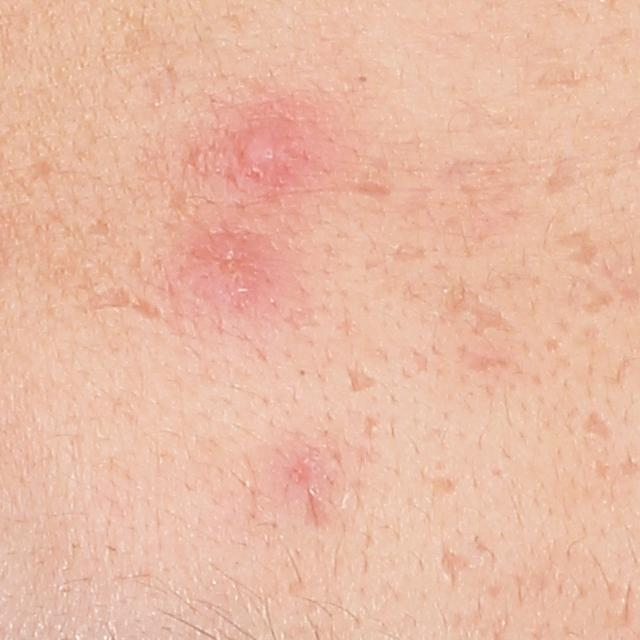atrophic_scar: (441, 271, 520, 335), (84, 285, 166, 321), (559, 220, 606, 269), (338, 177, 400, 206), (456, 342, 511, 374), (542, 157, 582, 199), (441, 552, 480, 590), (577, 282, 619, 316), (580, 410, 617, 448), (387, 237, 426, 262), (614, 352, 637, 388), (421, 474, 456, 497), (363, 411, 381, 439), (411, 351, 431, 374), (593, 462, 611, 482)
comedo: (353, 72, 370, 83)
papule: (226, 111, 282, 184)
